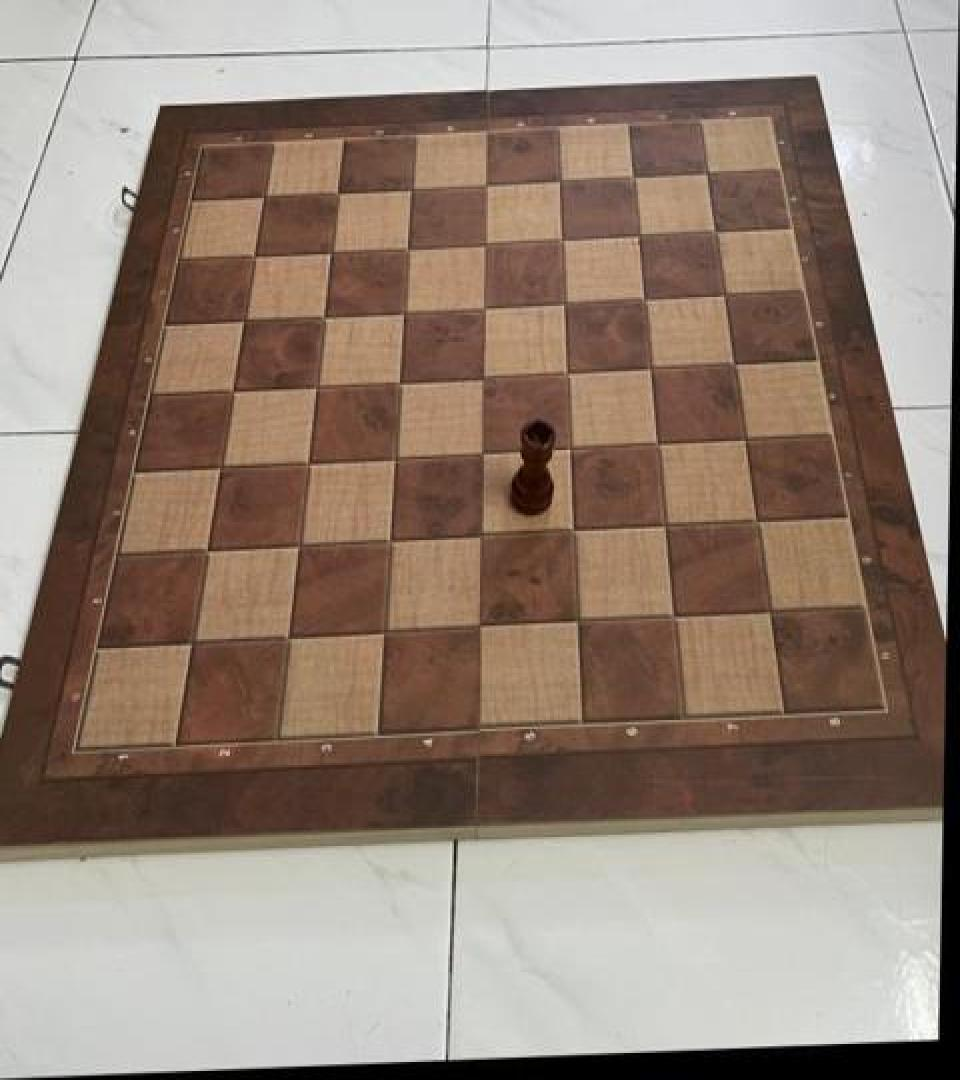xcorner: (395, 173, 429, 212), (468, 291, 502, 330), (636, 353, 670, 392), (467, 436, 501, 475), (693, 159, 727, 197), (618, 162, 652, 200), (544, 166, 578, 204), (469, 169, 503, 207), (320, 177, 354, 215), (246, 180, 280, 218), (701, 217, 735, 255), (624, 220, 658, 258), (546, 224, 580, 262), (469, 228, 503, 266), (391, 232, 425, 270), (314, 235, 348, 273), (236, 240, 270, 278), (710, 280, 744, 318), (630, 284, 664, 322), (549, 288, 583, 326), (388, 296, 422, 334), (307, 300, 341, 338), (226, 304, 260, 342), (720, 349, 754, 387), (552, 357, 586, 395), (468, 361, 502, 399), (384, 364, 418, 402), (300, 369, 334, 407), (215, 372, 249, 410), (731, 423, 765, 461), (643, 428, 677, 466), (555, 432, 589, 470), (379, 440, 413, 478), (291, 444, 325, 482), (204, 449, 238, 487), (742, 505, 776, 543), (651, 510, 685, 548), (559, 514, 593, 552), (467, 519, 501, 557), (375, 523, 409, 561), (283, 528, 317, 566), (190, 532, 224, 570), (755, 595, 789, 633), (659, 600, 693, 638), (563, 604, 597, 642), (466, 609, 500, 647), (369, 613, 403, 651), (273, 619, 307, 657), (176, 624, 210, 662)
